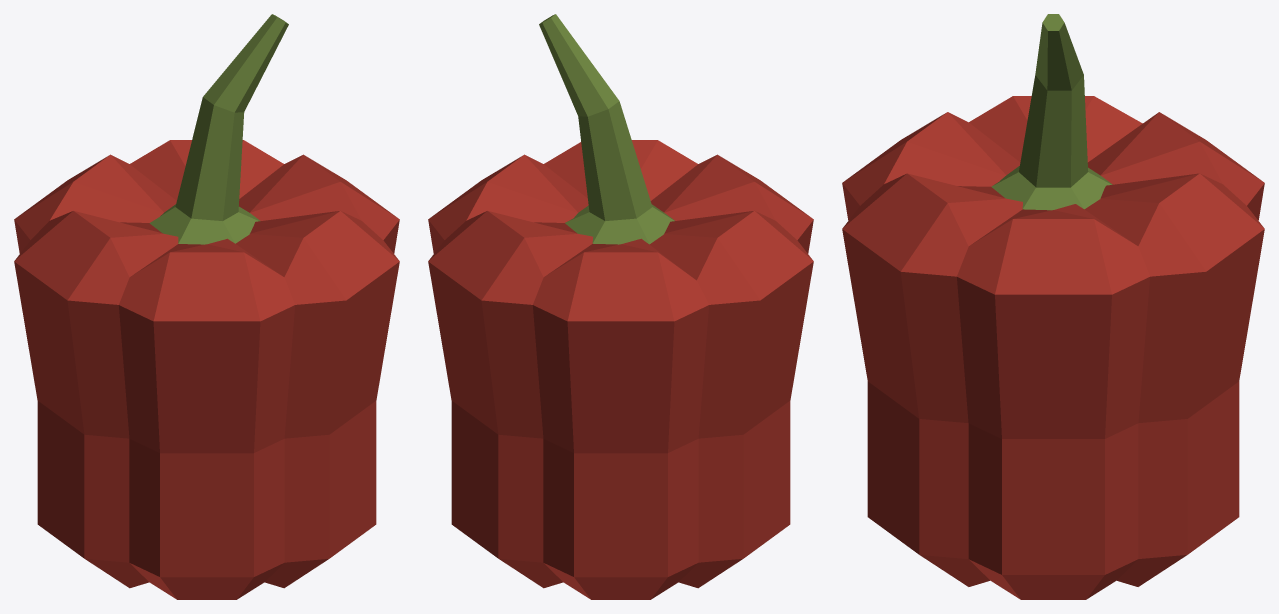
Rendered from SM_Envr_Nature_Farm_Vegetable_Capsicum_02.fbx.
The picture shows the model from 3 angles, left to right: view 1: azimuth 30°, elevation 25°; view 2: azimuth 150°, elevation 25°; view 3: azimuth 270°, elevation 25°; orthographic projection. The views are drawn at different scales.
Parts seen in each view (by area): view 1: SM_Envr_Nature_Farm_Vegetable_Capsicum_02; view 2: SM_Envr_Nature_Farm_Vegetable_Capsicum_02; view 3: SM_Envr_Nature_Farm_Vegetable_Capsicum_02.
Part boxes in pixels (bbox=[...]): SM_Envr_Nature_Farm_Vegetable_Capsicum_02: bbox=[14, 14, 399, 599]; SM_Envr_Nature_Farm_Vegetable_Capsicum_02: bbox=[428, 14, 813, 599]; SM_Envr_Nature_Farm_Vegetable_Capsicum_02: bbox=[842, 14, 1264, 599].
Bounding box in the file's own units: 7.63 × 11.47 × 7.67.
